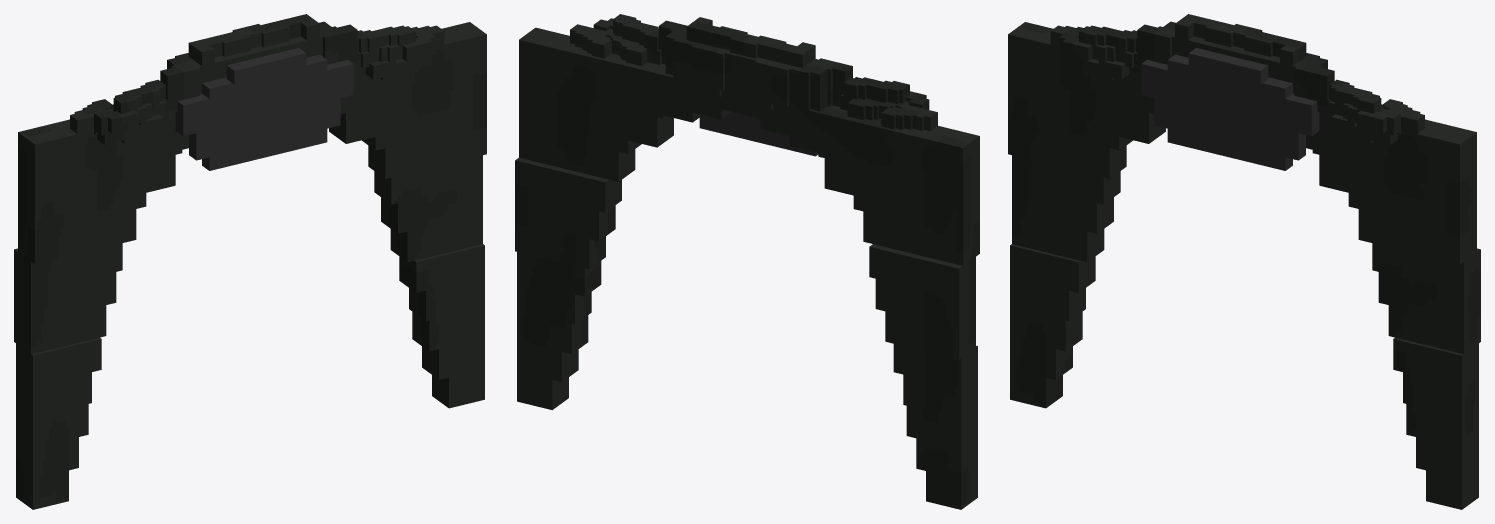
Rendered from arka.glb.
3 views of the same model, side by side, from view 1: azimuth 30°, elevation 25°; view 2: azimuth 150°, elevation 25°; view 3: azimuth 330°, elevation 25° (orthographic).
Visible parts, largest first — view 1: arka-1; view 2: arka-1; view 3: arka-1.
Part boxes in pixels (bbox=[...]): arka-1: bbox=[14, 14, 486, 509]; arka-1: bbox=[515, 14, 979, 509]; arka-1: bbox=[1008, 14, 1480, 509].
Bounding box in the file's own units: 13.8 × 12.2 × 1.7.
1 material, 1 textured.
